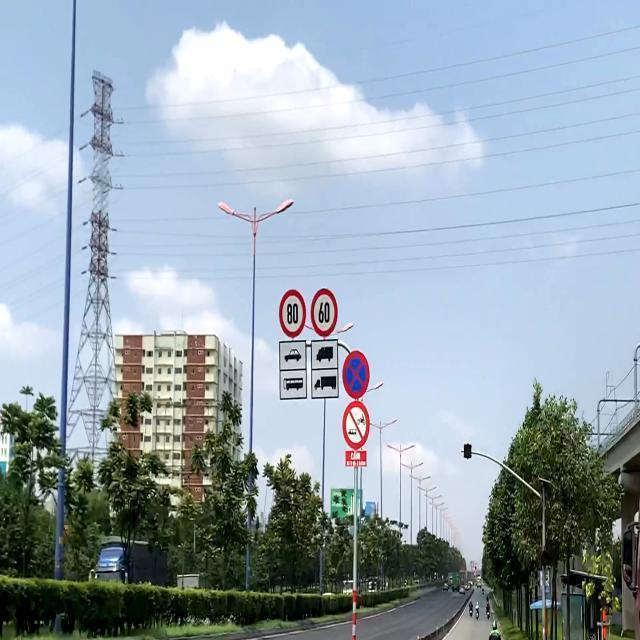127-toc-do-toi-da-60: (310, 290, 339, 336)
127-toc-do-toi-da-80: (276, 290, 306, 338)
130-cam-dung-va-do-xe: (340, 350, 373, 398)
